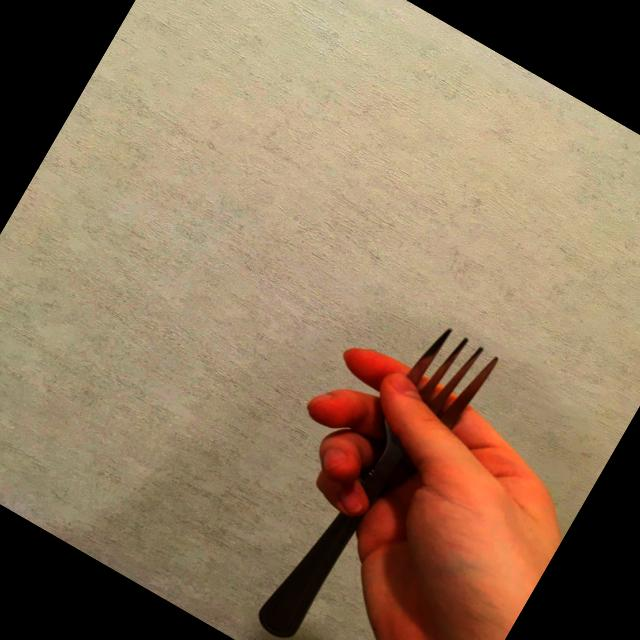fork: (248, 313, 505, 640)
